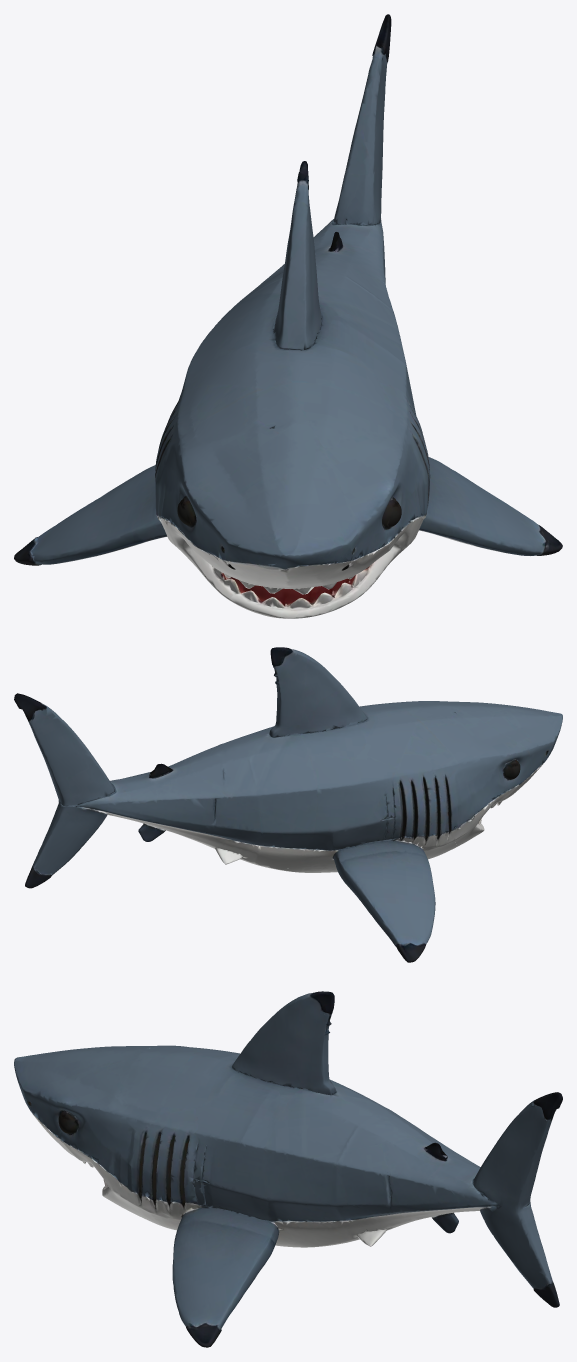
Rendered from shark_3d_model-2389d6f4.glb.
The picture shows the model from 3 angles, top to bottom: view 1: azimuth 30°, elevation 25°; view 2: azimuth 150°, elevation 25°; view 3: azimuth 270°, elevation 25°; orthographic projection. The views are drawn at different scales.
Parts seen in each view (by area): view 1: tripo_node_587df405-23cb-4d6b-bdad-1d9582d7a295; view 2: tripo_node_587df405-23cb-4d6b-bdad-1d9582d7a295; view 3: tripo_node_587df405-23cb-4d6b-bdad-1d9582d7a295.
Boxes of the visible parts, x1,y1,x2,y2 form: tripo_node_587df405-23cb-4d6b-bdad-1d9582d7a295: (14,14,562,618); tripo_node_587df405-23cb-4d6b-bdad-1d9582d7a295: (14,647,562,962); tripo_node_587df405-23cb-4d6b-bdad-1d9582d7a295: (14,991,562,1347).
Size of the model in its own units: 0.7748 by 0.5681 by 0.9787.
Materials: 1 (1 with a texture image).
